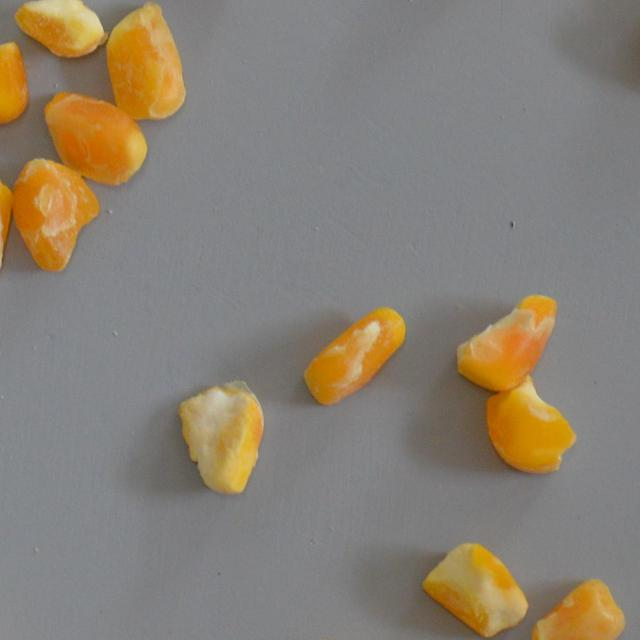dañado: (300, 304, 412, 410), (418, 536, 530, 640), (450, 290, 562, 393), (38, 84, 150, 187), (174, 376, 267, 500), (10, 156, 102, 276), (102, 0, 189, 124), (478, 373, 578, 476), (526, 572, 630, 640), (10, 0, 109, 59), (0, 37, 32, 128), (0, 166, 14, 296), (288, 630, 434, 640)
